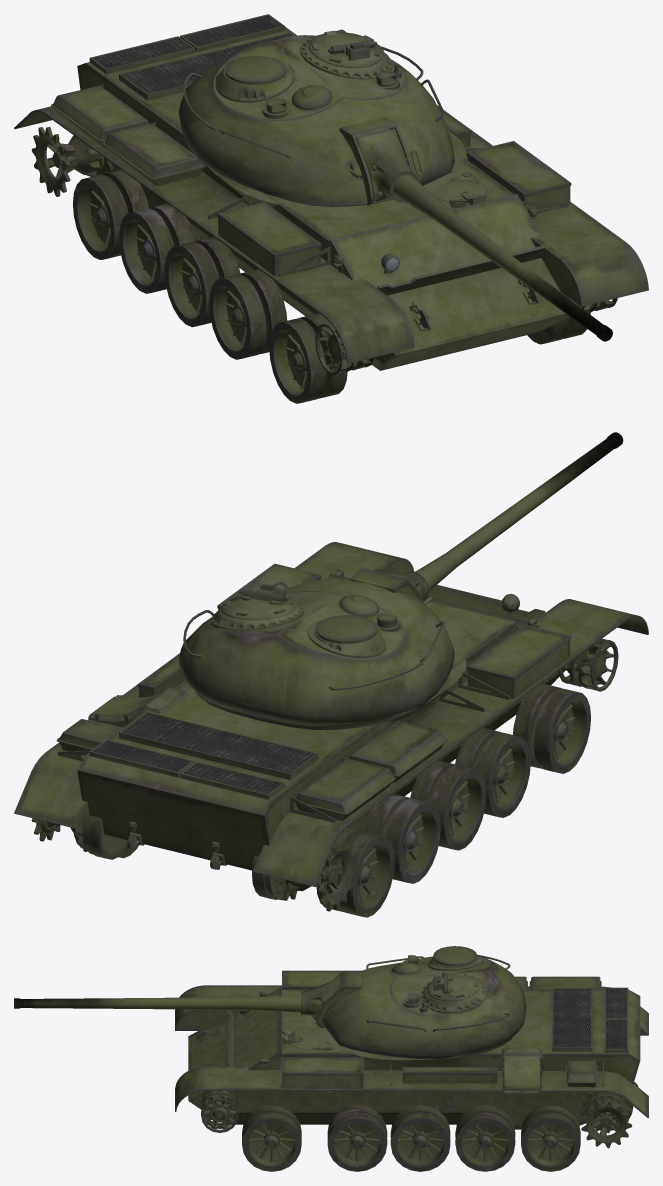
The picture shows the model from 3 angles, top to bottom: view 1: azimuth 30°, elevation 25°; view 2: azimuth 150°, elevation 25°; view 3: azimuth 270°, elevation 25°; orthographic projection. The views are drawn at different scales.
Parts seen in each view (by area): view 1: Wanne, turret, radL4, cannon, radL5, radL1, radL2, radL3, radL0, radL6, radR5; view 2: Wanne, turret, radL5, radL2, radL3, radL4, cannon, radL1, radL0, radL6; view 3: Wanne, turret, cannon, radR2, radR3, radR4, radR1, radR5, radR0, radR6.
Boxes of the visible parts, x1,y1,x2,y2 form: Wanne: (14,14,648,374); turret: (178,30,454,206); radL4: (209,269,287,359); cannon: (389,171,612,341); radL5: (269,313,347,403); radL1: (73,170,148,259); radL2: (119,203,194,293); radL3: (164,236,240,327); radL0: (31,126,113,196); radL6: (315,323,373,375); radR5: (527,312,590,344); Wanne: (14,542,648,900); turret: (178,568,454,729); radL5: (513,683,590,773); radL2: (364,793,440,883); radL3: (410,760,486,850); radL4: (455,727,530,817); cannon: (407,432,623,600); radL1: (316,827,394,917); radL0: (275,841,356,911); radL6: (560,639,618,691); Wanne: (175,970,648,1131); turret: (302,946,526,1059); cannon: (14,991,301,1015); radR2: (455,1105,515,1171); radR3: (390,1105,450,1171); radR4: (327,1105,387,1171); radR1: (521,1105,580,1171); radR5: (242,1105,301,1171); radR0: (581,1092,632,1148); radR6: (201,1090,238,1132).
Size of the model in its own units: 3.31 by 2.37 by 8.47.
1 material, 1 textured.
